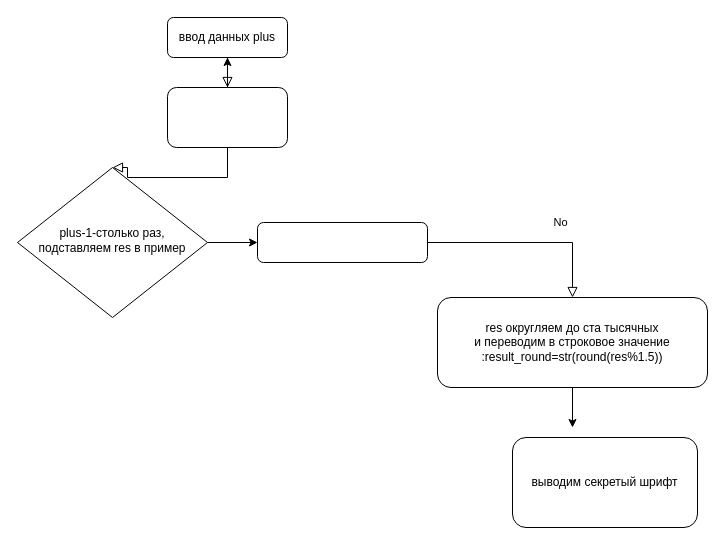
Image size: 725x545. Some labels were removed from this diagram. The shapes that lost their labels are listed below. From the top down, each one's box as (x1, y1, x2, y2) in pixels, then its label:
(166, 86, 288, 148): задается res: res=1+1
(256, 222, 428, 262): res=1+1/res
